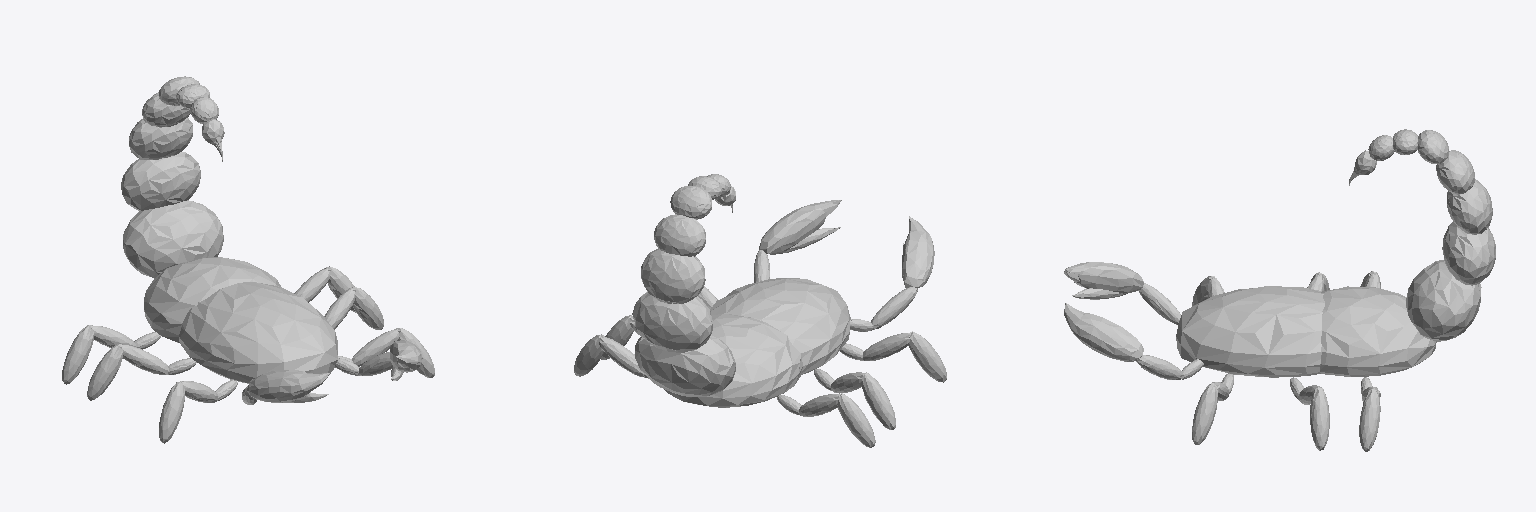
The model's file is scorpion_000025.obj.
3 renders of one model, left to right at view 1: azimuth 30°, elevation 25°; view 2: azimuth 150°, elevation 25°; view 3: azimuth 270°, elevation 25°, orthographic.
Parts seen in each view (by area): view 1: Sphere.010_Sphere.012, Sphere.002_Sphere.004, Sphere.011_Sphere.013, Sphere.003_Sphere.005, Sphere.030_Sphere.000, Sphere.004_Sphere.006, Sphere.012_Sphere.020, Sphere.000_Sphere.019, Sphere.014_Sphere.023, Sphere.016_Sphere.022, Sphere.013_Sphere.017, Sphere.018_Sphere.025 (+5 smaller); view 2: Sphere.010_Sphere.012, Sphere.011_Sphere.013, Sphere.002_Sphere.004, Sphere.030_Sphere.000, Sphere.003_Sphere.005, Sphere.004_Sphere.006, Sphere.014_Sphere.023, Sphere.005_Sphere.007, Sphere.012_Sphere.020, Sphere.018_Sphere.025, Sphere.028_Sphere.046, Sphere.006_Sphere.008 (+3 smaller); view 3: Sphere.010_Sphere.012, Sphere.011_Sphere.013, Sphere.002_Sphere.004, Sphere.030_Sphere.000, Sphere.003_Sphere.005, Sphere.004_Sphere.006, Sphere.028_Sphere.046, Sphere.000_Sphere.019, Sphere.005_Sphere.007, Sphere.012_Sphere.020, Sphere.014_Sphere.023, Sphere.006_Sphere.008 (+1 smaller).
Boxes of the visible parts, x1=… form: Sphere.010_Sphere.012: x1=179, y1=282, x2=337, y2=383; Sphere.002_Sphere.004: x1=123, y1=200, x2=223, y2=277; Sphere.011_Sphere.013: x1=144, y1=257, x2=280, y2=342; Sphere.003_Sphere.005: x1=121, y1=152, x2=200, y2=210; Sphere.030_Sphere.000: x1=247, y1=340, x2=422, y2=402; Sphere.004_Sphere.006: x1=129, y1=118, x2=192, y2=159; Sphere.012_Sphere.020: x1=87, y1=287, x2=383, y2=400; Sphere.000_Sphere.019: x1=159, y1=328, x2=434, y2=443; Sphere.014_Sphere.023: x1=62, y1=266, x2=355, y2=384; Sphere.016_Sphere.022: x1=121, y1=288, x2=355, y2=374; Sphere.013_Sphere.017: x1=182, y1=329, x2=398, y2=402; Sphere.018_Sphere.025: x1=91, y1=267, x2=329, y2=347; Sphere.010_Sphere.012: x1=710, y1=278, x2=850, y2=374; Sphere.011_Sphere.013: x1=664, y1=313, x2=802, y2=407; Sphere.002_Sphere.004: x1=635, y1=334, x2=735, y2=396; Sphere.030_Sphere.000: x1=759, y1=200, x2=934, y2=287; Sphere.003_Sphere.005: x1=632, y1=291, x2=712, y2=352; Sphere.004_Sphere.006: x1=641, y1=248, x2=705, y2=303; Sphere.014_Sphere.023: x1=574, y1=334, x2=875, y2=447; Sphere.005_Sphere.007: x1=654, y1=214, x2=705, y2=256; Sphere.012_Sphere.020: x1=601, y1=315, x2=895, y2=429; Sphere.018_Sphere.025: x1=599, y1=336, x2=839, y2=416; Sphere.028_Sphere.046: x1=754, y1=249, x2=917, y2=329; Sphere.006_Sphere.008: x1=670, y1=186, x2=711, y2=219; Sphere.010_Sphere.012: x1=1176, y1=286, x2=1324, y2=377; Sphere.011_Sphere.013: x1=1320, y1=286, x2=1436, y2=376; Sphere.002_Sphere.004: x1=1406, y1=260, x2=1481, y2=341; Sphere.030_Sphere.000: x1=1064, y1=262, x2=1143, y2=361; Sphere.003_Sphere.005: x1=1442, y1=221, x2=1495, y2=285; Sphere.004_Sphere.006: x1=1447, y1=179, x2=1492, y2=234; Sphere.028_Sphere.046: x1=1136, y1=283, x2=1183, y2=379; Sphere.000_Sphere.019: x1=1192, y1=276, x2=1217, y2=444; Sphere.005_Sphere.007: x1=1436, y1=150, x2=1474, y2=194; Sphere.012_Sphere.020: x1=1310, y1=272, x2=1329, y2=450; Sphere.014_Sphere.023: x1=1359, y1=271, x2=1380, y2=451; Sphere.006_Sphere.008: x1=1417, y1=130, x2=1448, y2=163.
Bounding box in the file's own units: 0.9547 × 0.7547 × 1.19.